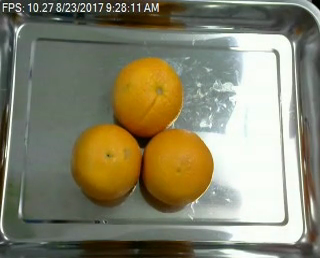Orange: (111, 56, 183, 136), (71, 123, 143, 203), (143, 130, 214, 206)
